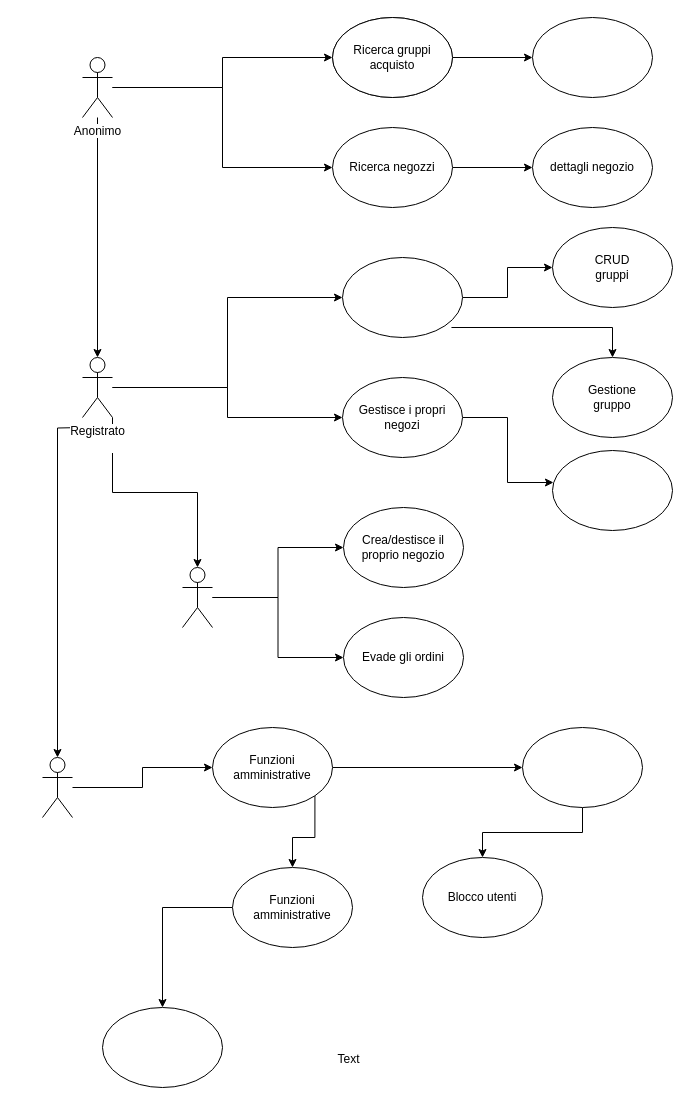
Some shapes in this 690 by 1105 pixel diagram are drawn without their labels. Each missing label, with the box of its shape:
CRUD sui negozi: (552, 450, 672, 530)
dettagli gruppo: (532, 16, 652, 98)
Funzioni di sicurezza: (522, 726, 642, 808)
Gestisce i propri gruppi: (342, 256, 462, 338)
Profilo: Amministratore: (42, 756, 72, 818)
Profilo: Negoziante: (182, 566, 212, 628)
Rettifiche dati: (102, 1006, 222, 1088)
